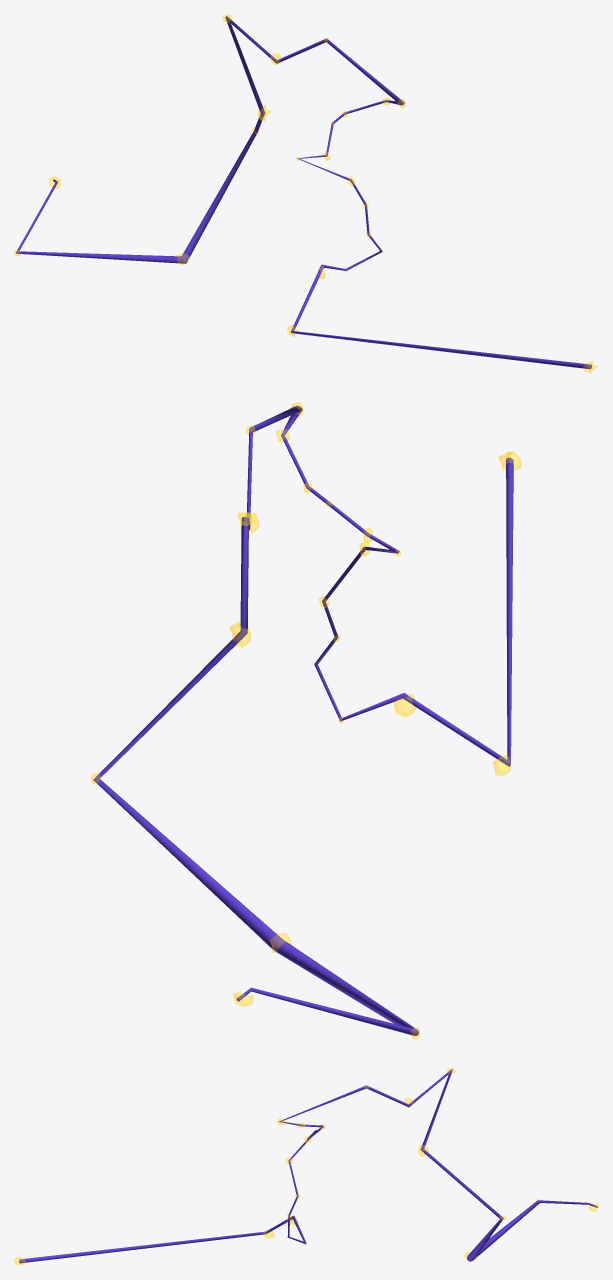
File: constellation_threeJS.glb
The picture shows the model from 3 angles, top to bottom: view 1: azimuth 30°, elevation 25°; view 2: azimuth 150°, elevation 25°; view 3: azimuth 270°, elevation 25°; orthographic projection. The views are drawn at different scales.
Visible parts, largest first — view 1: BézierCurve.031; view 2: BézierCurve.031; view 3: BézierCurve.031.
Part boxes in pixels (x1,y1,x2,y2): BézierCurve.031: (14, 14, 597, 373); BézierCurve.031: (91, 402, 521, 1039); BézierCurve.031: (14, 1068, 598, 1265).
Bounding box in the file's own units: 1.1 × 0.9958 × 2.53.
